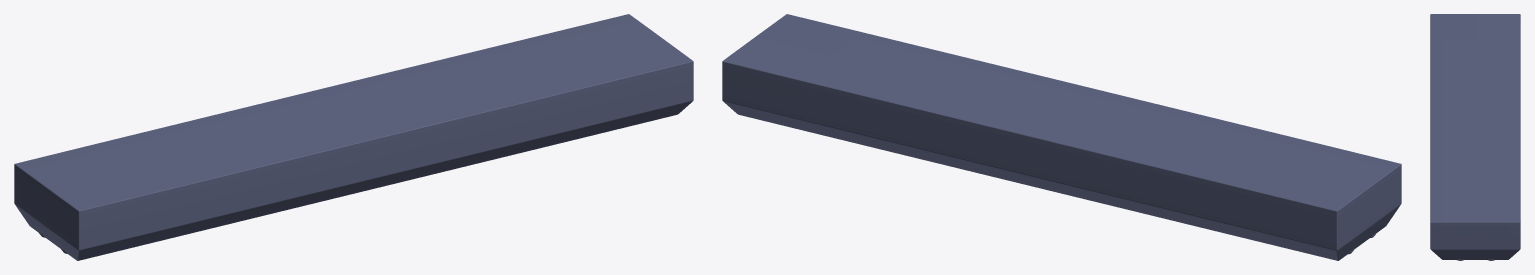
Rendered from zarivka.fbx.
The picture shows the model from 3 angles, left to right: view 1: azimuth 30°, elevation 25°; view 2: azimuth 150°, elevation 25°; view 3: azimuth 270°, elevation 25°; orthographic projection. The views are drawn at different scales.
Parts seen in each view (by area): view 1: zarivka; view 2: zarivka; view 3: zarivka.
Boxes of the visible parts, x1=… form: zarivka: x1=14, y1=14, x2=693, y2=260; zarivka: x1=722, y1=14, x2=1401, y2=260; zarivka: x1=1430, y1=14, x2=1520, y2=260.
Bounding box in the file's own units: 120 × 11.25 × 22.
